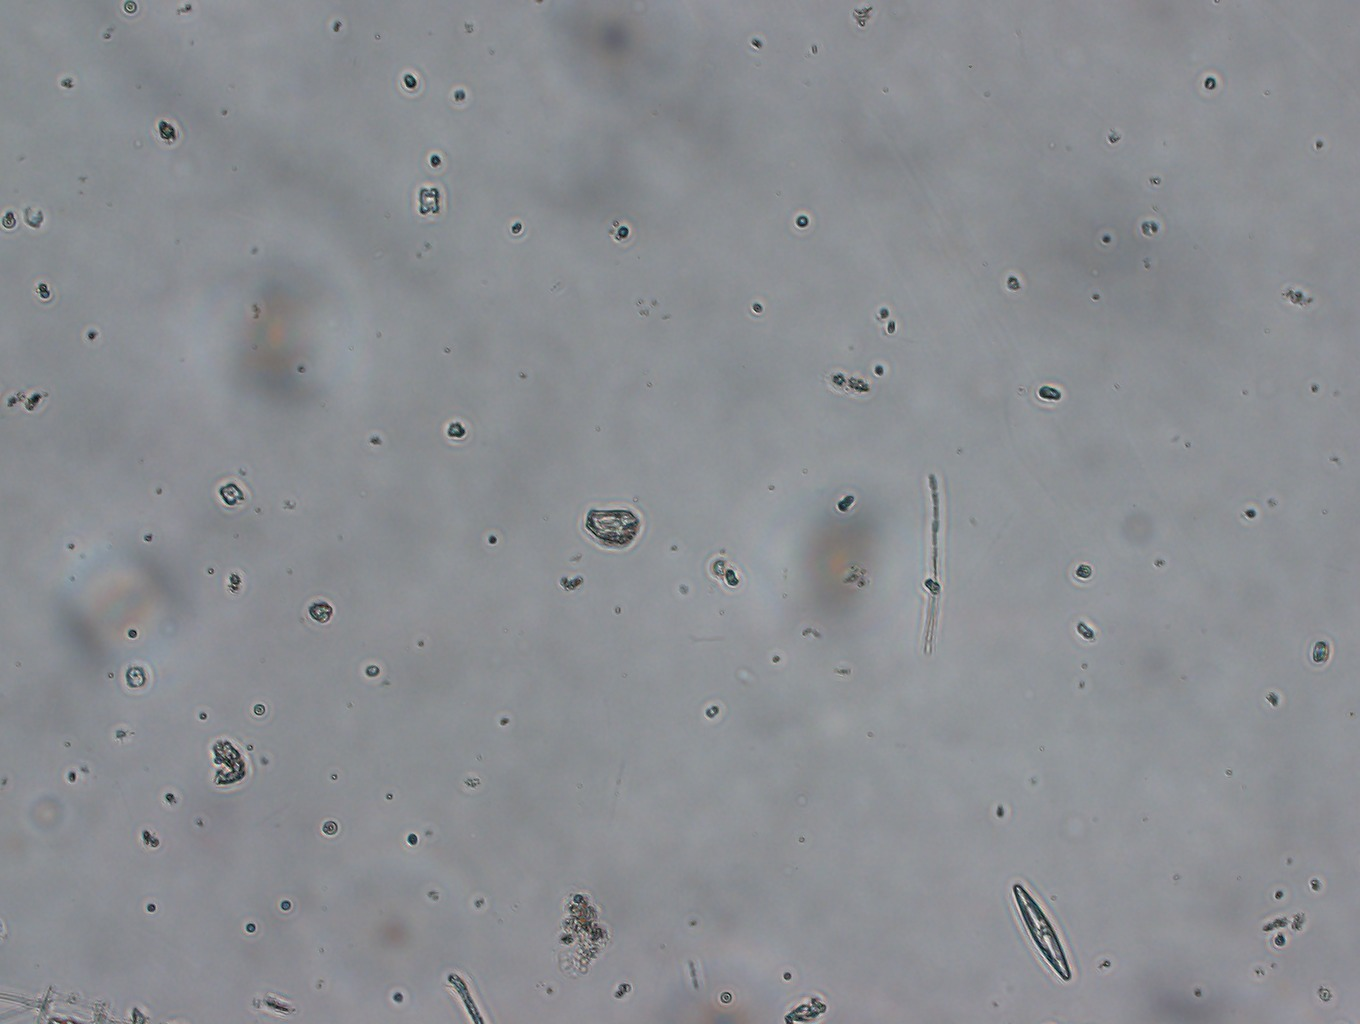navicula: (1002, 876, 1082, 982)
